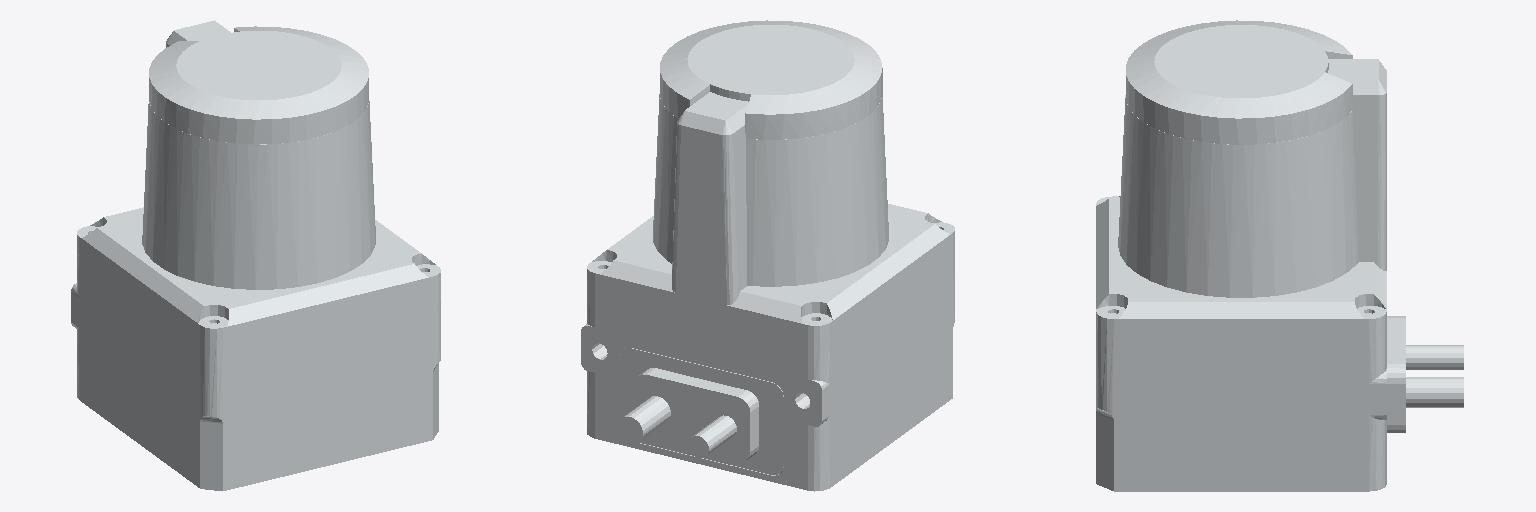
The robot description file, URDF, robot "Hokuyo UST-10LX":
<?xml version="1.0" encoding="utf-8"?>
<!-- This URDF was automatically created by SolidWorks to URDF Exporter! Originally created by [author] ([email redacted]) 
     Commit Version: 1.5.1-0-g916b5db  Build Version: 1.5.7152.31018
     For more information, please see http://wiki.ros.org/sw_urdf_exporter -->
<robot
  name="Hokuyo UST-10LX">
  <link
    name="Hokuyo_UST_10LX">
    <inertial>
      <origin
        xyz="3.9624E-06 0.000648810000000002 0.029713"
        rpy="0 0 0" />
      <mass
        value="0.36783" />
      <inertia
        ixx="0.00020576"
        ixy="-4.7481E-08"
        ixz="2.789E-08"
        iyy="0.00020037"
        iyz="1.0406E-06"
        izz="0.00012741" />
    </inertial>
    <visual>
      <origin
        xyz="0 0 0"
        rpy="1.5707963267949 0 0" />
      <geometry>
        <mesh
          filename="package://Hokuyo_UST_10LX/meshes/Hokuyo_UST_10LX.STL" />
      </geometry>
      <material
        name="">
        <color
          rgba="0.89804 0.91765 0.92941 1" />
        <texture
          filename="package://Hokuyo_UST_10LX/textures/" />
      </material>
    </visual>
    <collision>
      <origin
        xyz="0 0 0"
        rpy="1.5707963267949 0 0" />
      <geometry>
        <mesh
          filename="package://Hokuyo_UST_10LX/meshes/Hokuyo_UST_10LX.STL" />
      </geometry>
    </collision>
  </link>
</robot>

--- What the picture shows (computed from the rendered views, not written in the file) ---
Views: 3 orthographic renders of the robot side by side, from view 1: azimuth 30°, elevation 25°; view 2: azimuth 150°, elevation 25°; view 3: azimuth 270°, elevation 25°.
Model Hokuyo UST-10LX with 1 links and 0 joints (none), rooted at Hokuyo_UST_10LX, posed every joint at zero.
Links seen in each view (by area): view 1: Hokuyo_UST_10LX; view 2: Hokuyo_UST_10LX; view 3: Hokuyo_UST_10LX.
Boxes of the visible links, bbox=[...] form: Hokuyo_UST_10LX: bbox=[71, 20, 440, 490]; Hokuyo_UST_10LX: bbox=[581, 20, 954, 491]; Hokuyo_UST_10LX: bbox=[1096, 20, 1463, 491].
Size in the robot's own frame: 0.05 by 0.0632 by 0.07 metres.
1 mesh visuals loaded from 1 distinct referenced files (1 binary STL).
